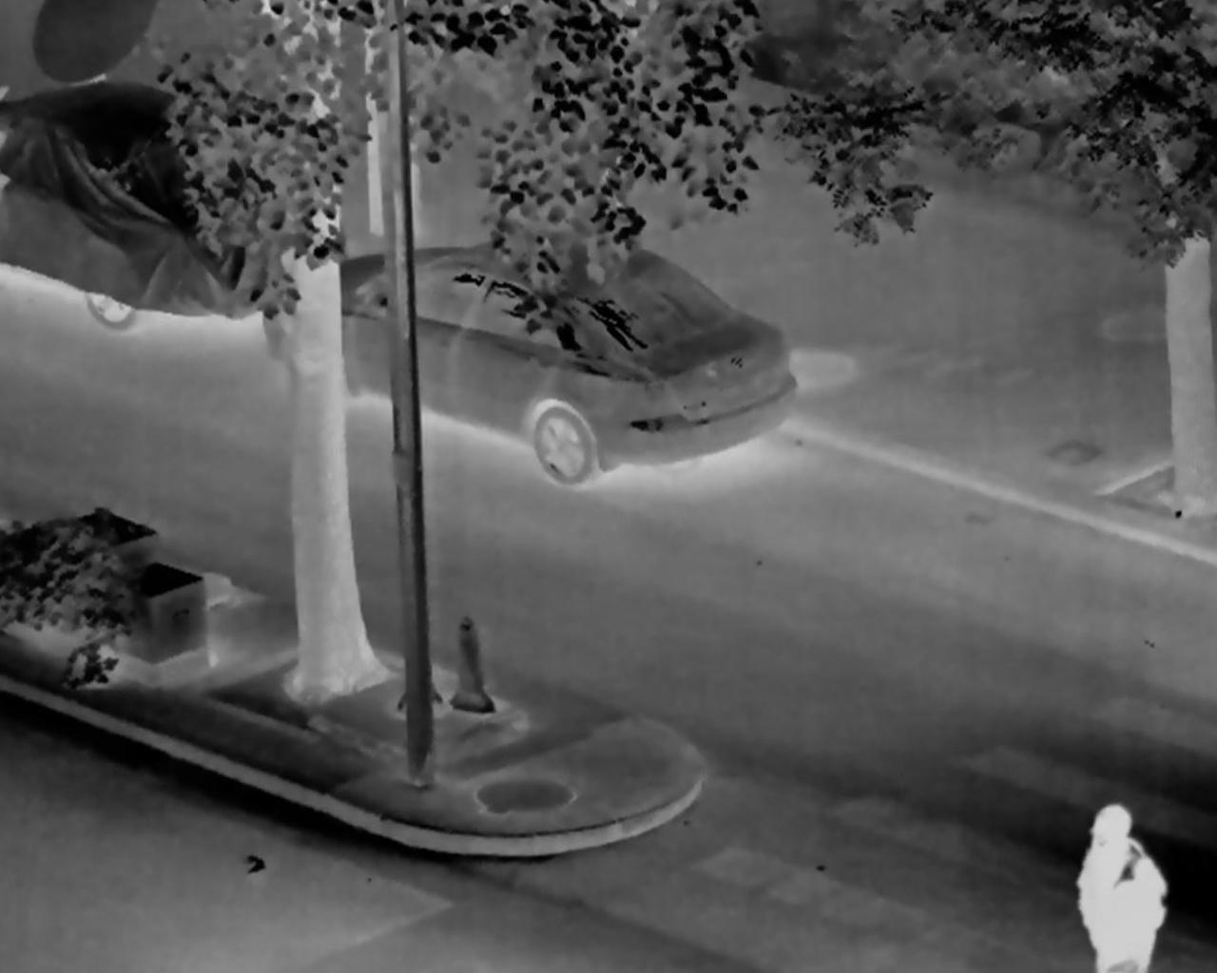person: (1075, 799, 1164, 973)
